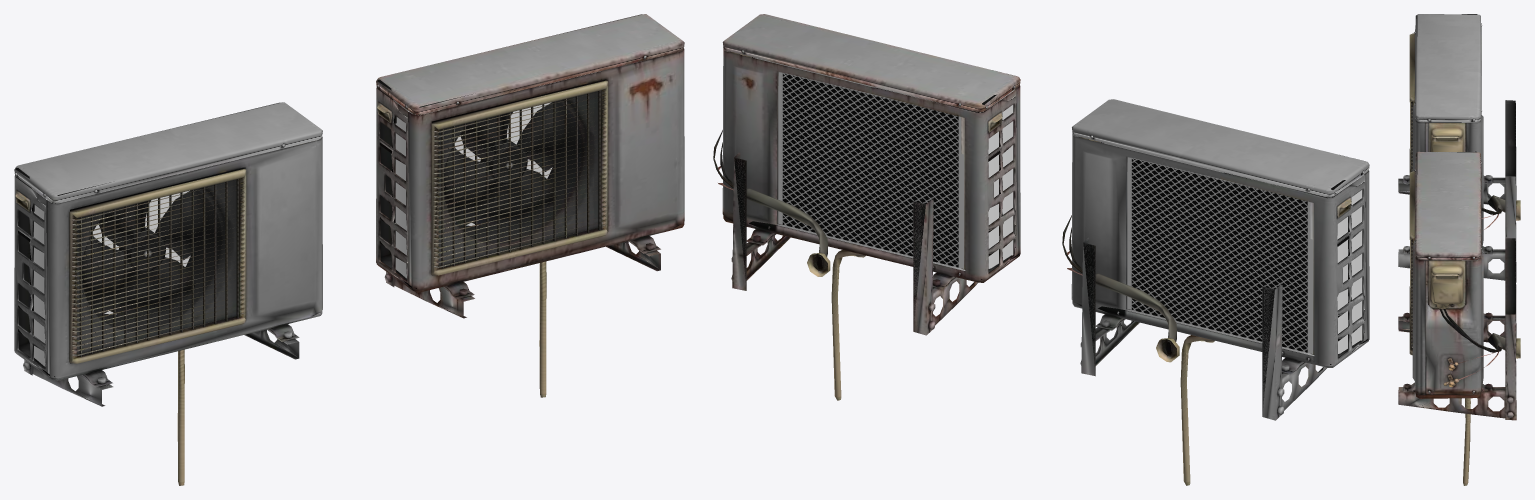
Rendered from aircon.glb.
3 renders of one model, left to right at view 1: azimuth 30°, elevation 25°; view 2: azimuth 150°, elevation 25°; view 3: azimuth 270°, elevation 25°, orthographic. The views are drawn at different scales.
Parts seen in each view (by area): view 1: exterior_aircon_unit_rusted, exterior_aircon_unit; view 2: exterior_aircon_unit, exterior_aircon_unit_rusted; view 3: exterior_aircon_unit_rusted, exterior_aircon_unit.
Part boxes in pixels (x1=…): exterior_aircon_unit_rusted: x1=376, y1=14, x2=684, y2=397; exterior_aircon_unit: x1=14, y1=102, x2=322, y2=485; exterior_aircon_unit: x1=1062, y1=99, x2=1369, y2=485; exterior_aircon_unit_rusted: x1=713, y1=14, x2=1020, y2=400; exterior_aircon_unit_rusted: x1=1398, y1=151, x2=1520, y2=485; exterior_aircon_unit: x1=1398, y1=14, x2=1520, y2=282.
Bounding box in the file's own units: 1.8 × 0.9279 × 0.3742.
Materials: 4 (4 with a texture image).
